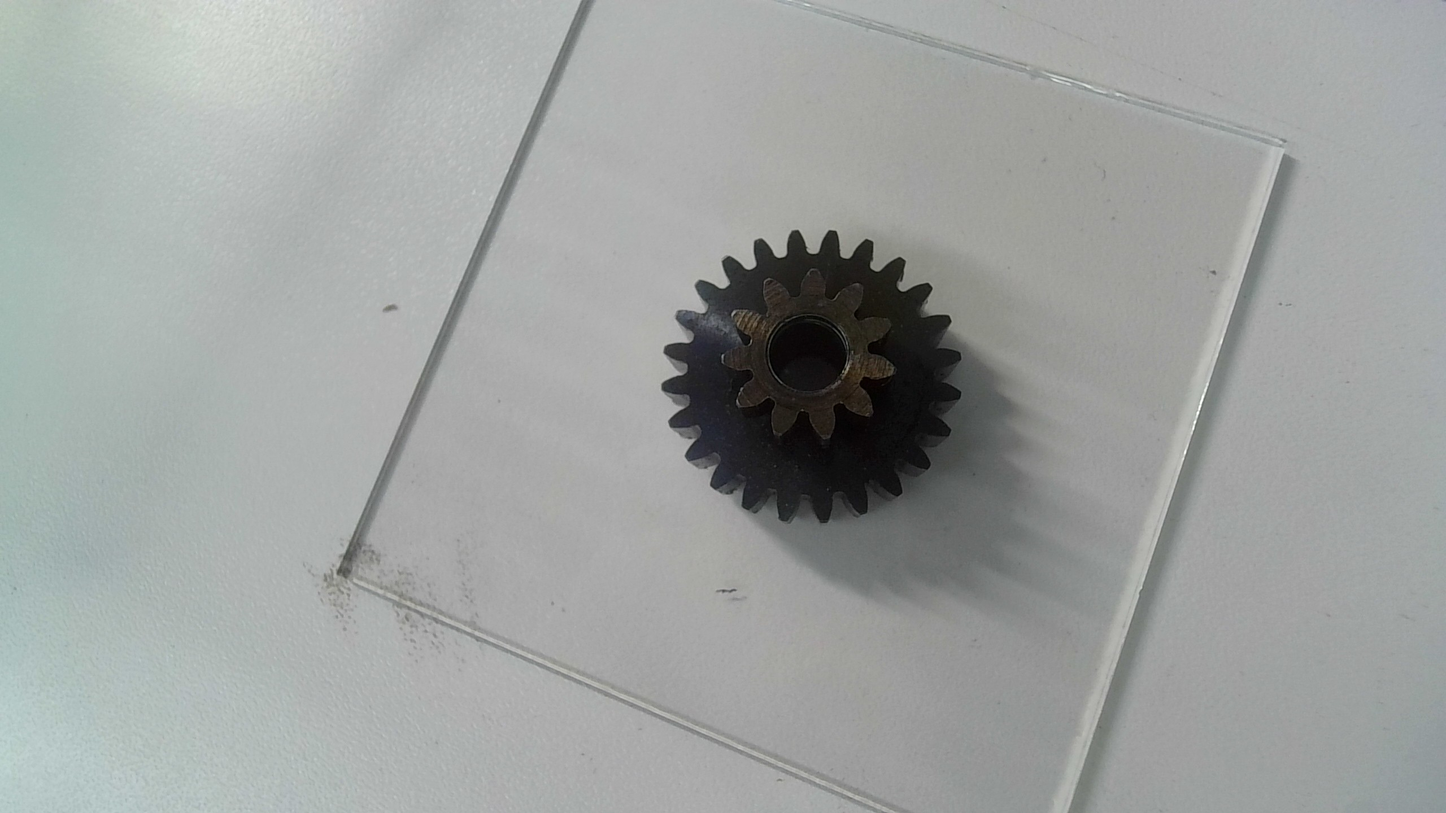gear: (660, 229, 969, 527)
